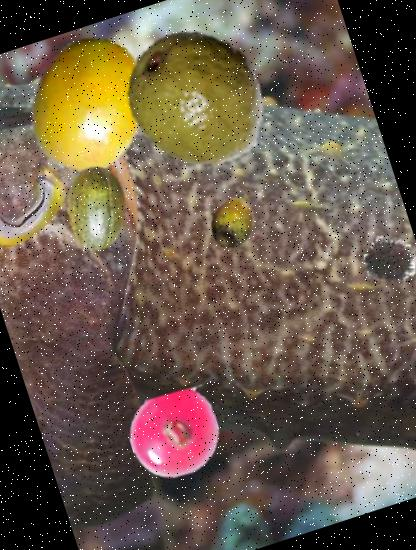Cactus: (194, 180, 270, 257)
Guava: (105, 5, 291, 191)
Maracuja: (3, 19, 174, 190)
Melon: (44, 154, 152, 262)
Rambutan: (356, 224, 416, 291)
Redcurrant: (118, 377, 231, 490)
